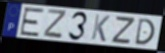3: (66, 10, 90, 42)
D: (134, 18, 156, 46)
E: (19, 7, 46, 38)
K: (90, 13, 111, 43)
Z: (42, 8, 68, 40), (109, 16, 137, 45)
